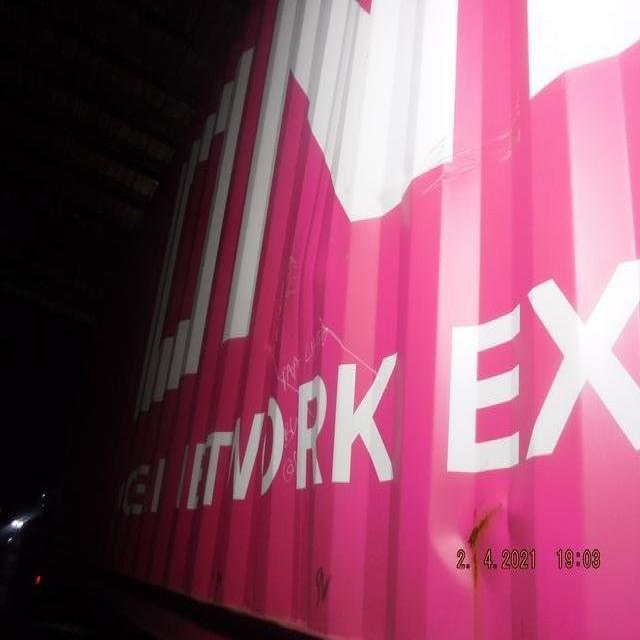Dent: (256, 218, 384, 374)
Minor-Dent: (419, 468, 542, 592)
